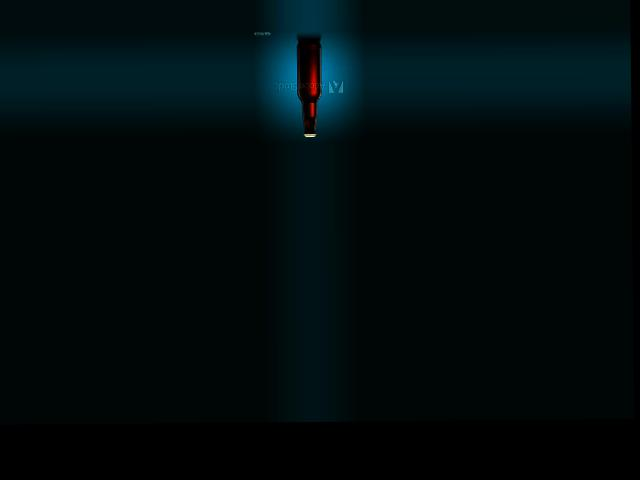beer: (296, 40, 321, 136)
